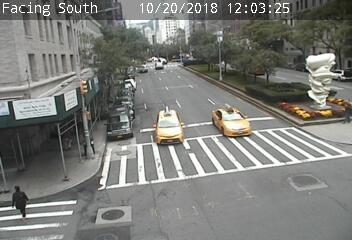car: (211, 104, 251, 137), (154, 107, 186, 143)
